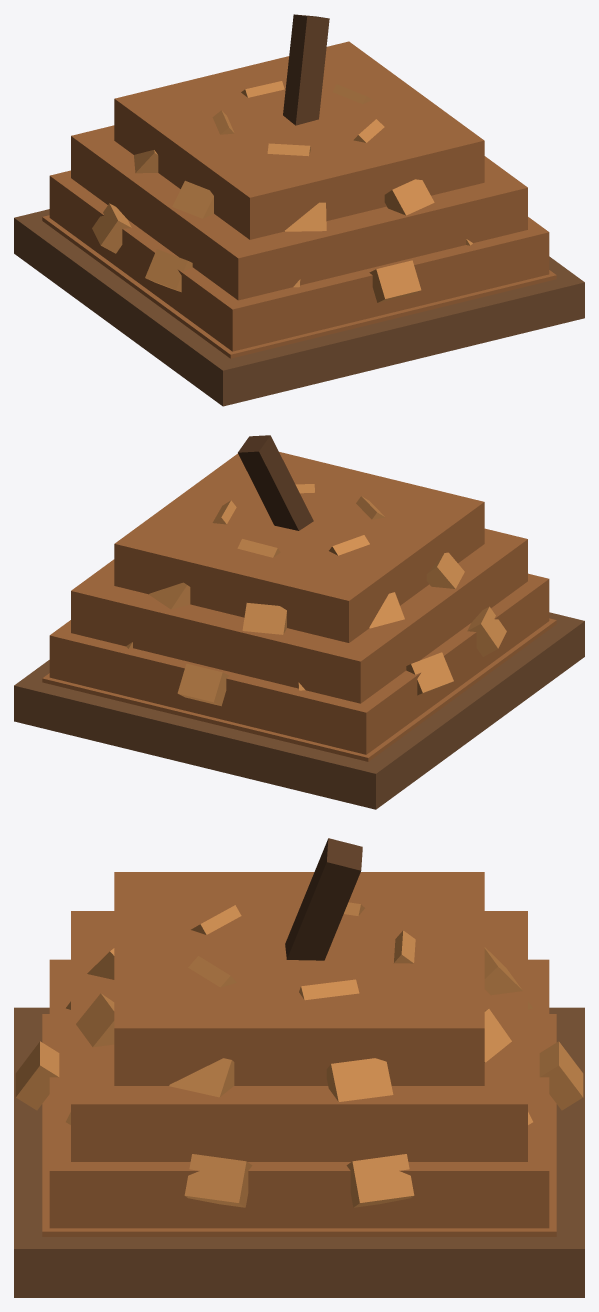
Rendered from acorn-cap-blocky.glb.
3 views of the same model, one above another, from view 1: azimuth 30°, elevation 25°; view 2: azimuth 150°, elevation 25°; view 3: azimuth 270°, elevation 25° (orthographic). The views are drawn at different scales.
Visible parts, largest first — view 1: acorn-cap; view 2: acorn-cap; view 3: acorn-cap.
Part boxes in pixels (x1,y1,x2,y2): acorn-cap: (14, 14, 584, 406); acorn-cap: (14, 435, 584, 809); acorn-cap: (14, 838, 584, 1297).
Bounding box in the file's own units: 0.1685 × 0.1154 × 0.1685.
